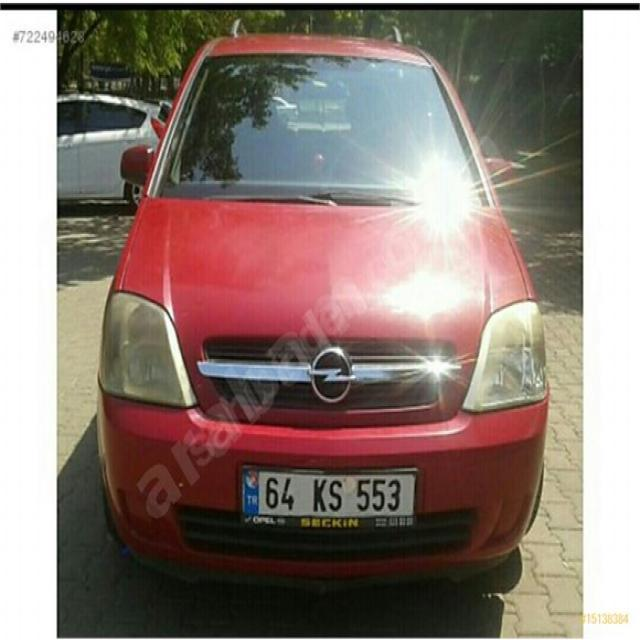plate: (237, 465, 421, 532)
